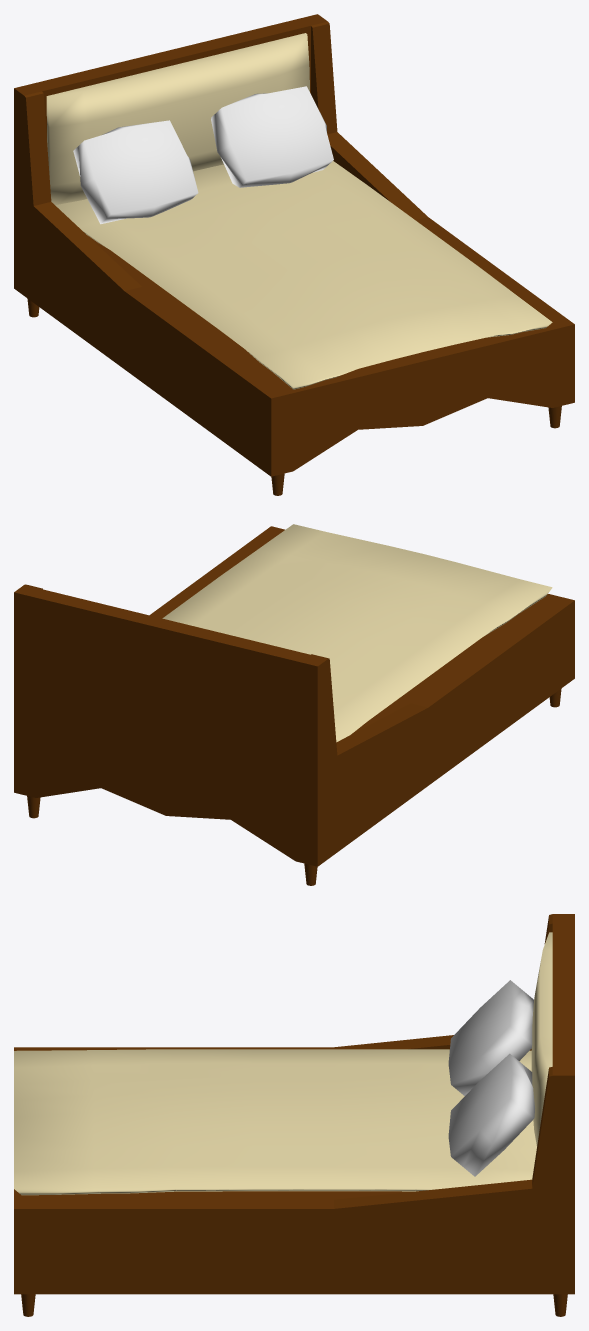
Rendered from Bed.fbx.
3 renders of one model, top to bottom at view 1: azimuth 30°, elevation 25°; view 2: azimuth 150°, elevation 25°; view 3: azimuth 270°, elevation 25°, orthographic. The views are drawn at different scales.
Visible parts, largest first — view 1: Cube, Cube.001, Cube.003, Cube.002, Cylinder; view 2: Cube, Cube.001, Cylinder; view 3: Cube, Cube.001, Cube.003, Cube.002, Cylinder.
Part boxes in pixels (bbox=[...]): Cube: bbox=[14, 14, 574, 476]; Cube.001: bbox=[55, 161, 552, 389]; Cube.003: bbox=[73, 86, 333, 224]; Cube.002: bbox=[46, 33, 309, 204]; Cylinder: bbox=[27, 298, 561, 495]; Cube: bbox=[14, 526, 574, 866]; Cube.001: bbox=[162, 524, 552, 742]; Cylinder: bbox=[27, 688, 561, 885]; Cube: bbox=[14, 914, 574, 1294]; Cube.001: bbox=[14, 1049, 536, 1195]; Cube.003: bbox=[448, 980, 534, 1176]; Cube.002: bbox=[531, 932, 552, 1146]; Cylinder: bbox=[21, 1294, 567, 1316].
Bounding box in the file's own units: 813 × 576 × 1191.
